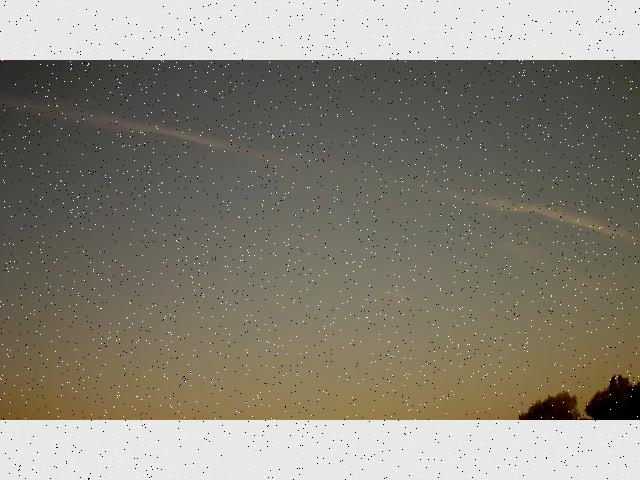Anti-Drone: (464, 317, 480, 323)
